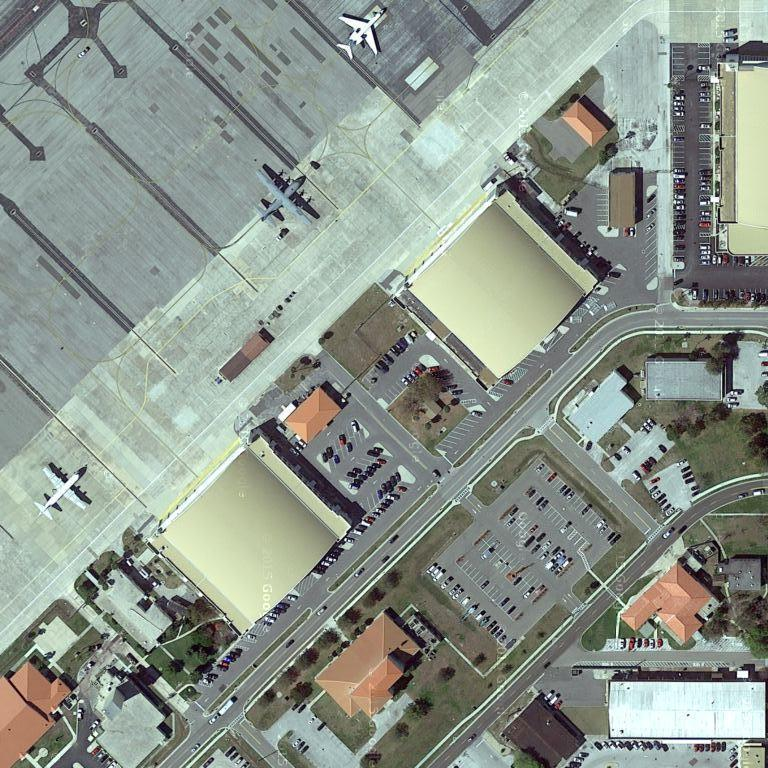C-130: (251, 164, 316, 231)
P-3C: (29, 461, 95, 526)
plane: (331, 7, 390, 65)
